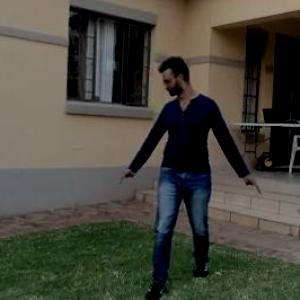land: (105, 53, 256, 299)
